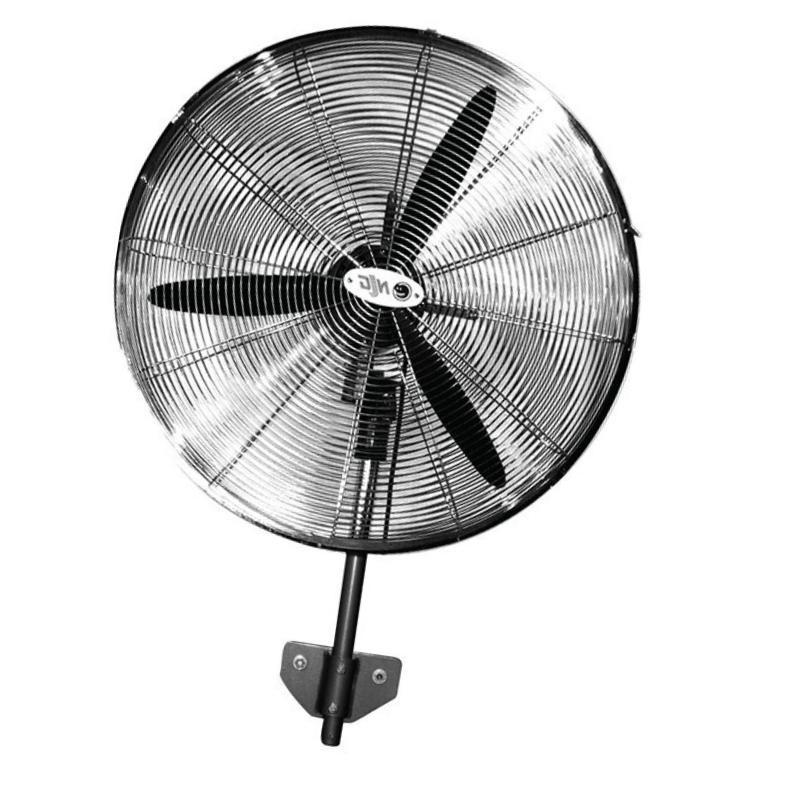fan: (76, 11, 652, 743)
